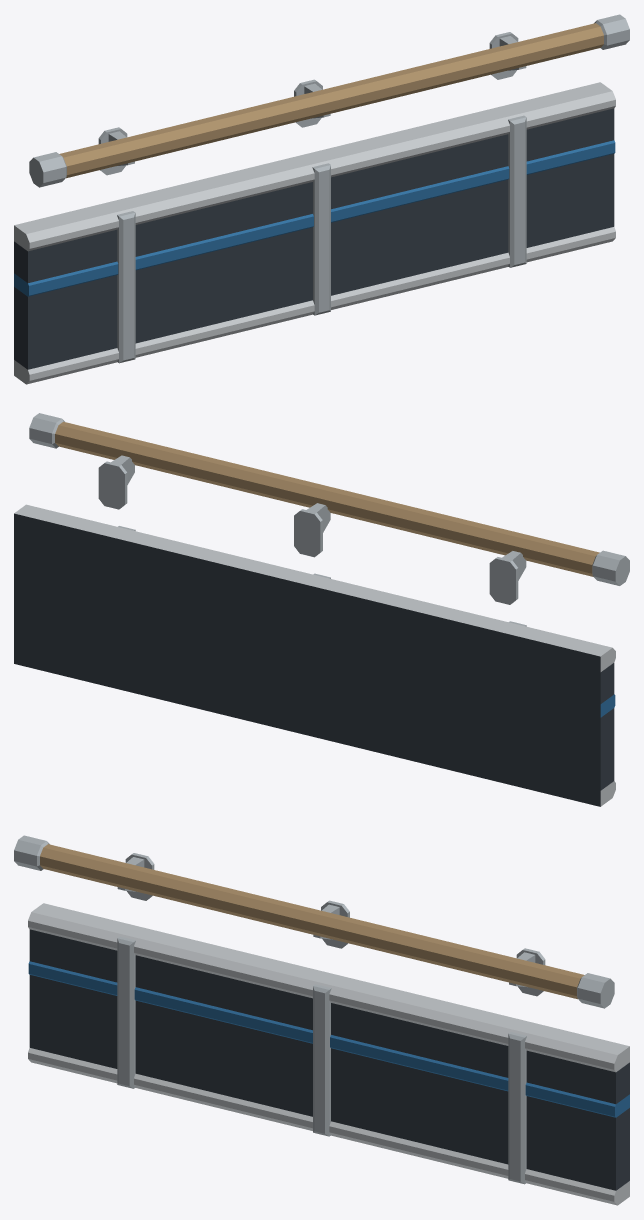
File: corridor-handrail-run-cc6555.glb
3 views of the same model, one above another, from view 1: azimuth 30°, elevation 25°; view 2: azimuth 150°, elevation 25°; view 3: azimuth 330°, elevation 25° (orthographic).
Visible parts, largest first — view 1: handrail-run; view 2: handrail-run; view 3: handrail-run.
Part boxes in pixels (x1,y1,x2,y2): handrail-run: (14, 14, 629, 384); handrail-run: (14, 413, 629, 806); handrail-run: (14, 835, 629, 1205).
Size of the model in its own units: 2 by 0.757 by 0.174.
